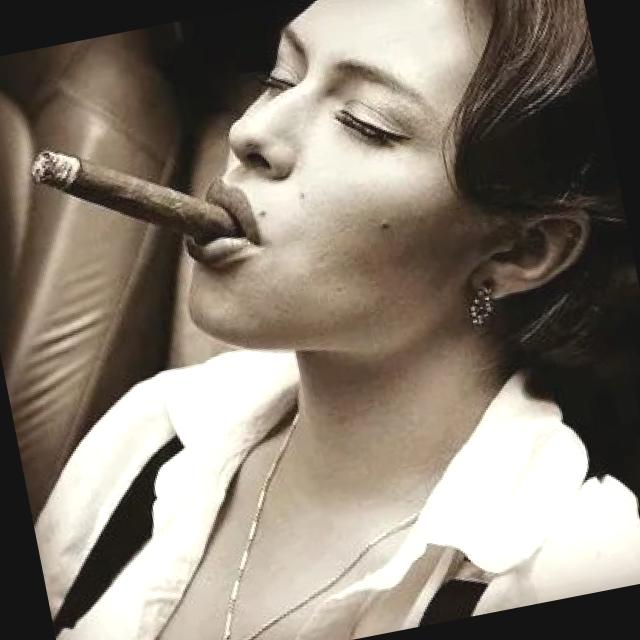cigarette: (18, 113, 249, 288)
